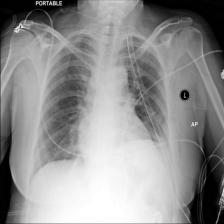normal: (31, 30, 180, 175)
